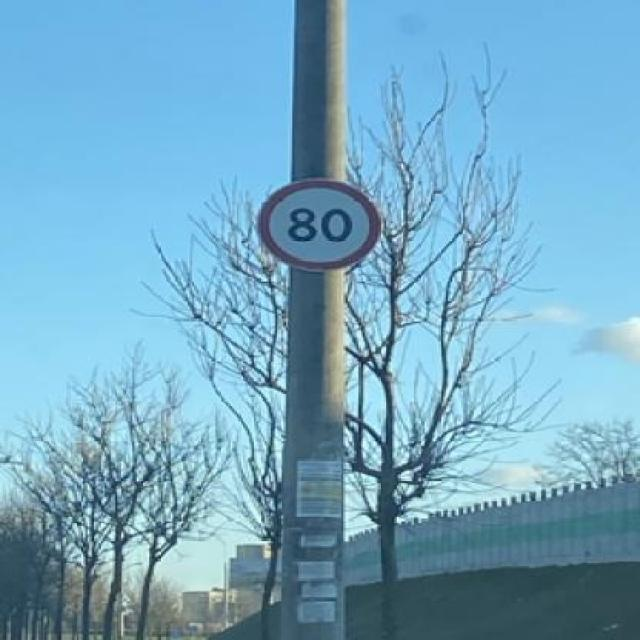forb_speed_over_80: (259, 180, 379, 271)
